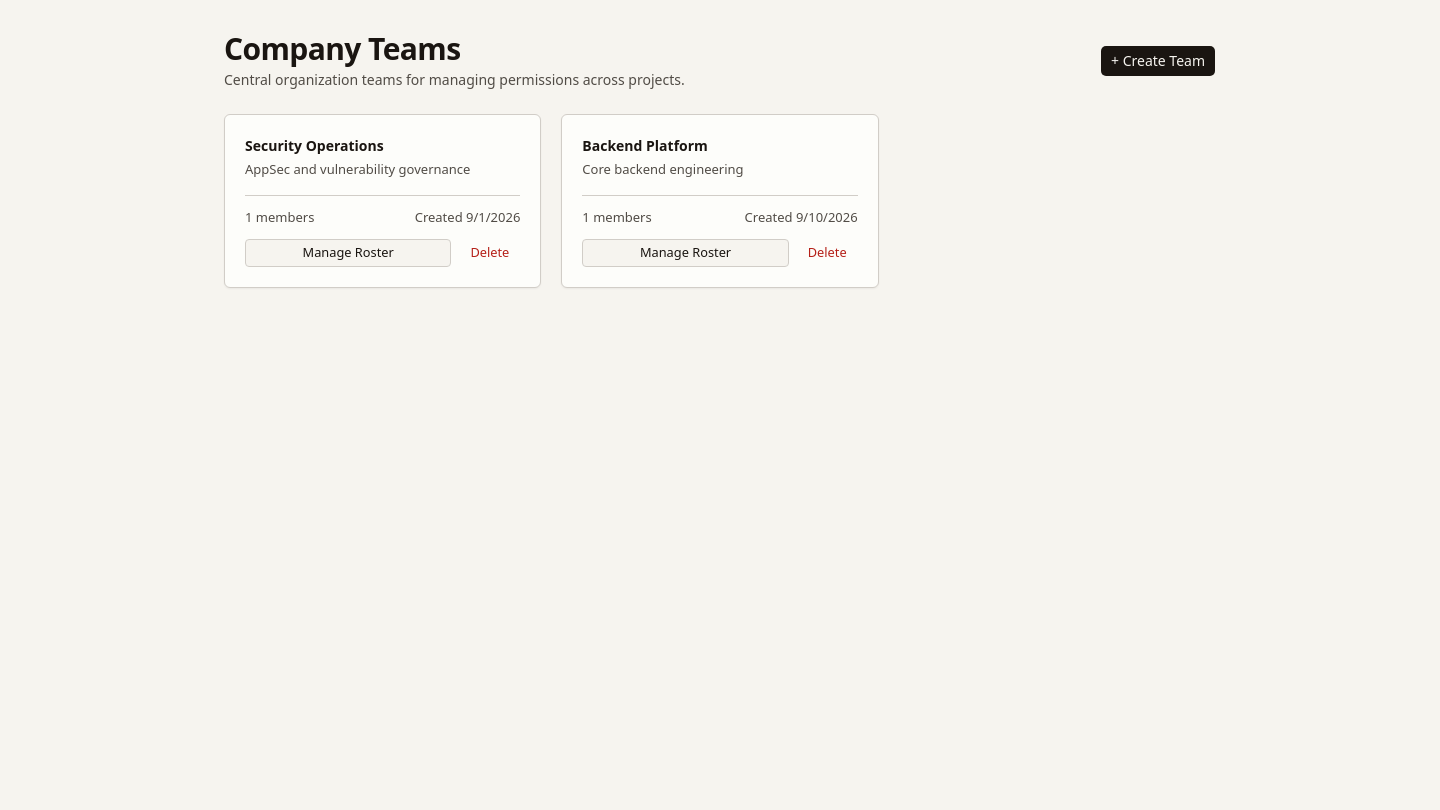
Scenario: TeamsDirectory › does not submit an address that is not an email
The image size is (1440, 810).
Click the button "Manage Roster" below "9/1/2026".
click(348, 253)  # box 245,239 -> 451,267
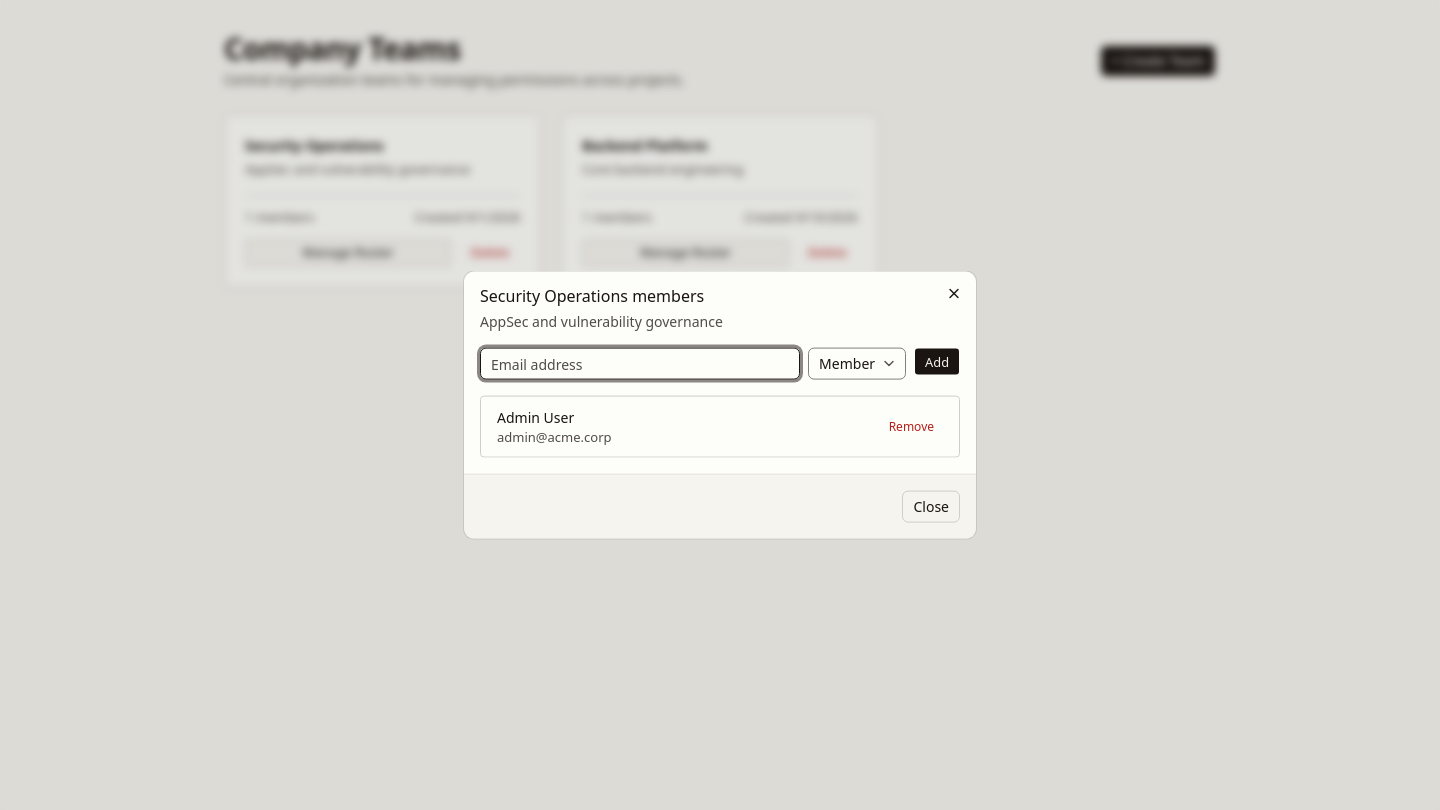
Type "alex@acme" into the dropdown labelled "Email address".
click(640, 364); type("alex@acme")  # box 480,348 -> 800,380
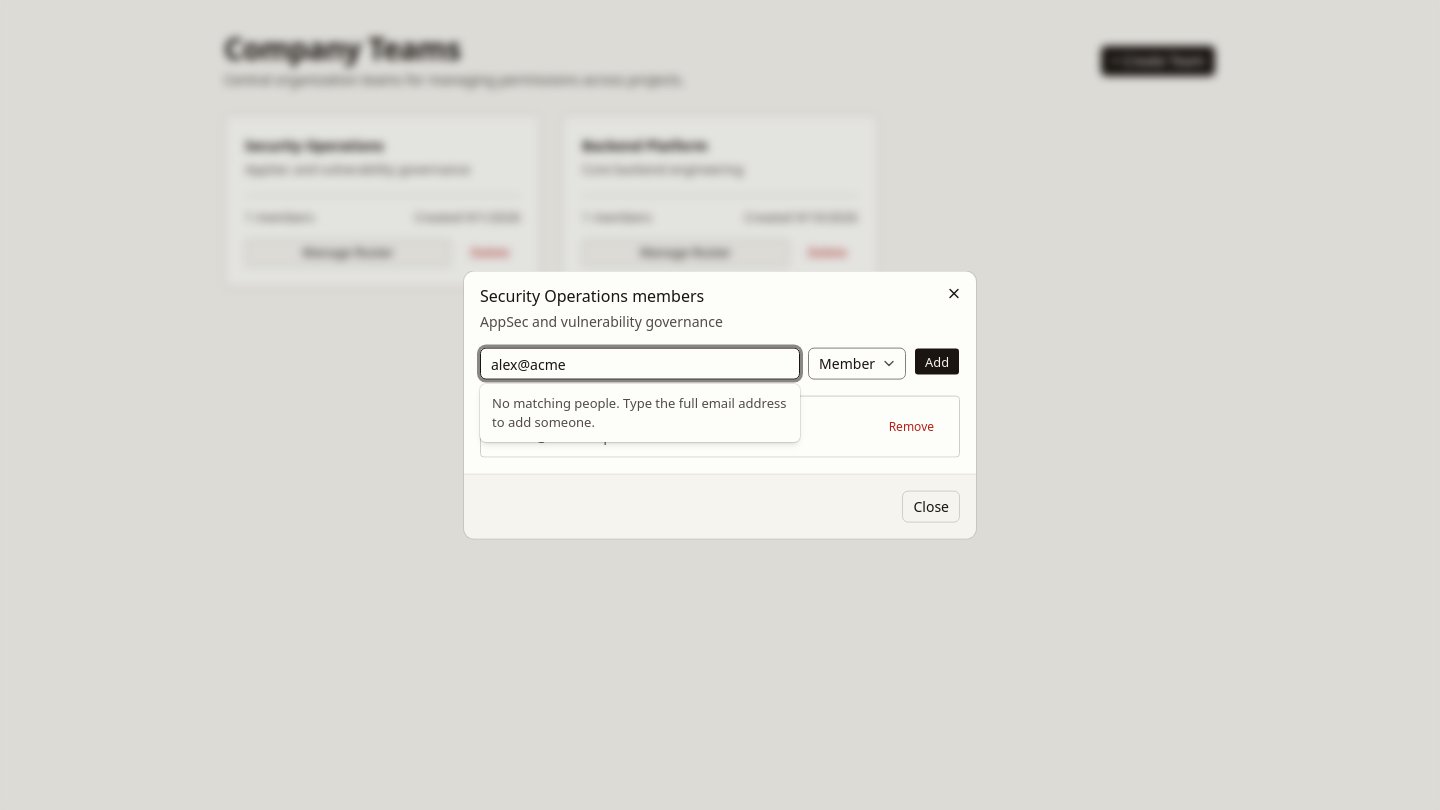
Press Escape
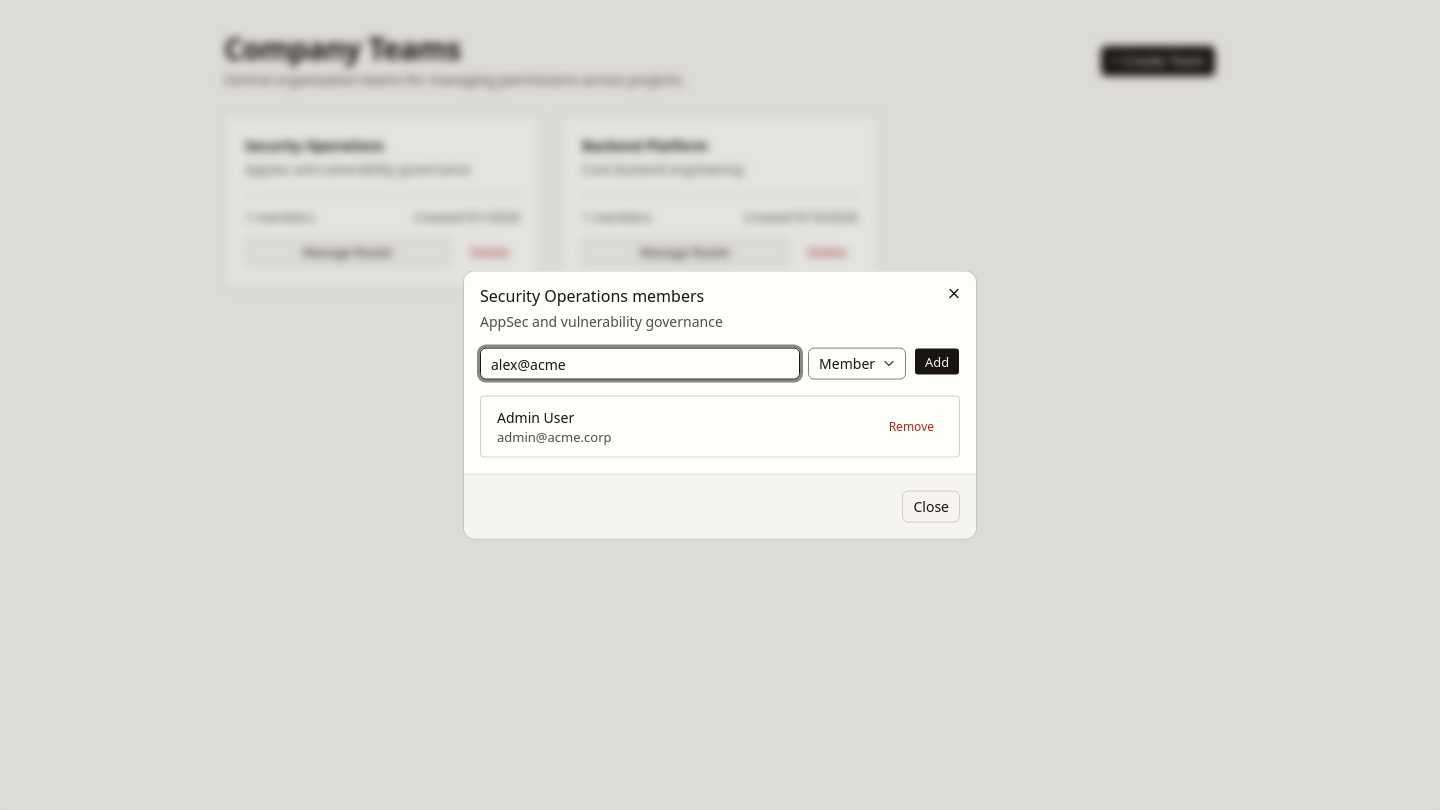
Click the button "Add".
click(937, 362)  # box 914,348 -> 960,376
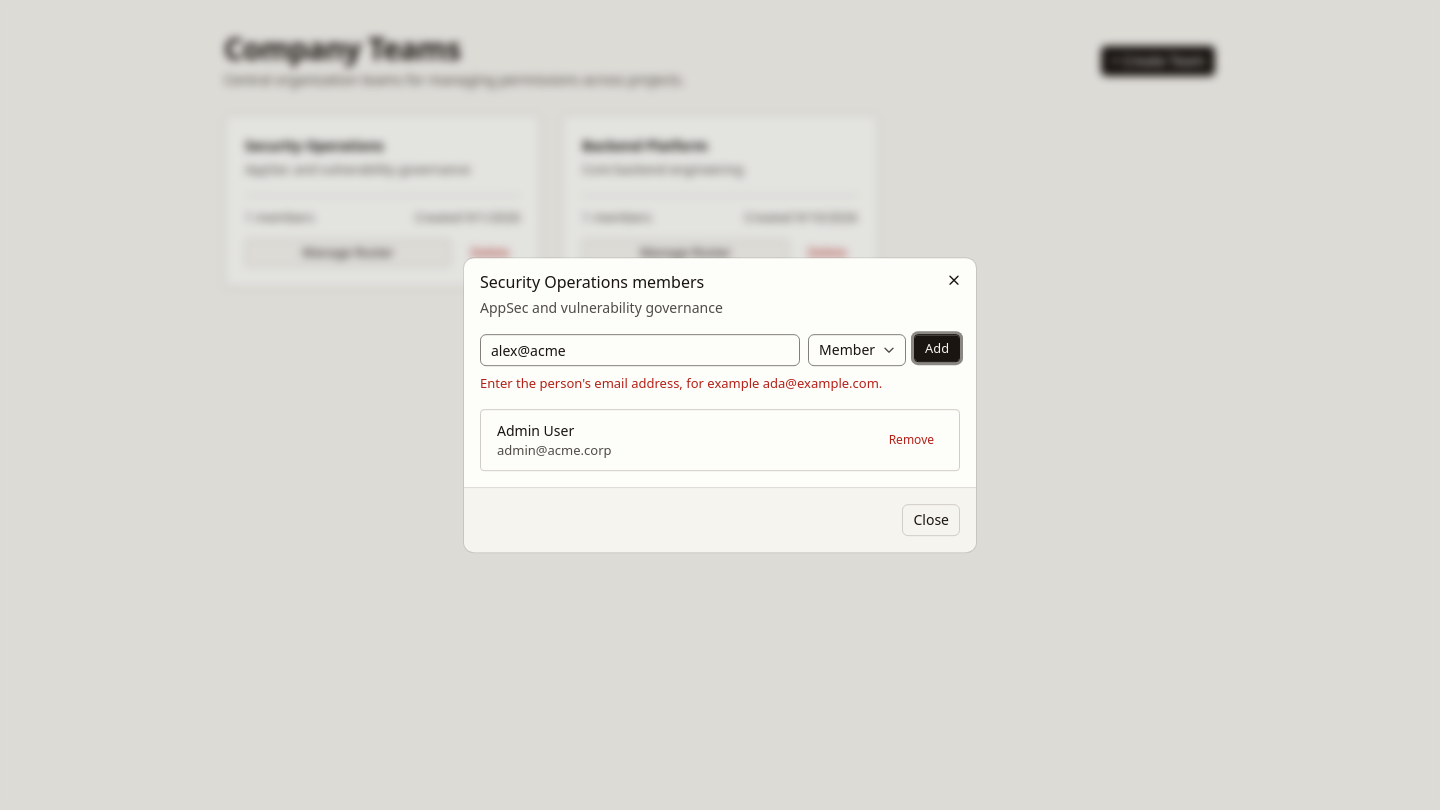
Check: the text "Enter the person's email address" is shown, box 480,374 -> 882,392
